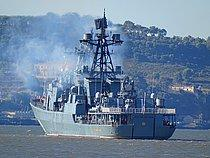MIL_Ship: (28, 15, 177, 142)
